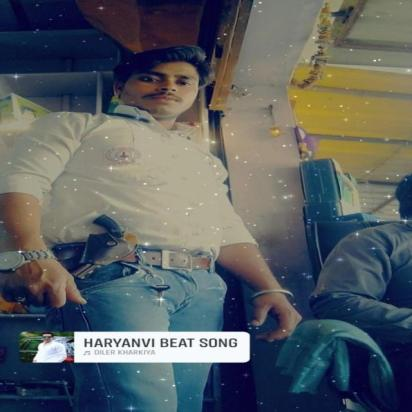Gun: (69, 212, 140, 284)
